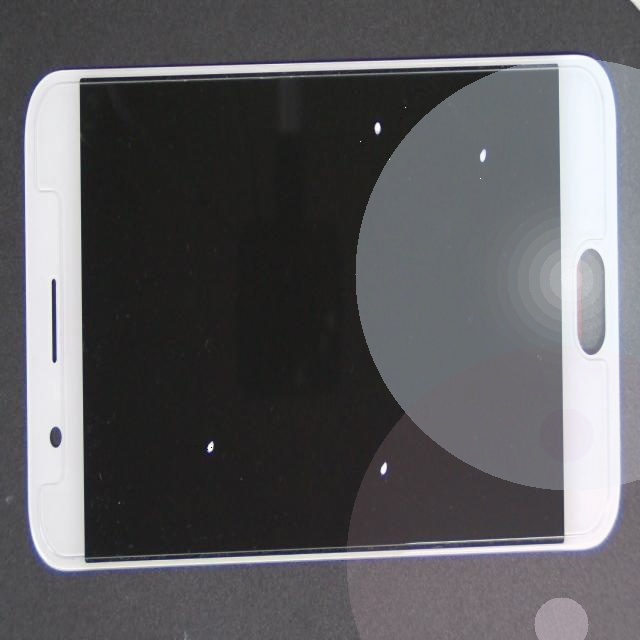stain: (183, 240, 548, 640), (102, 180, 298, 640), (227, 66, 640, 267), (165, 65, 546, 238)
